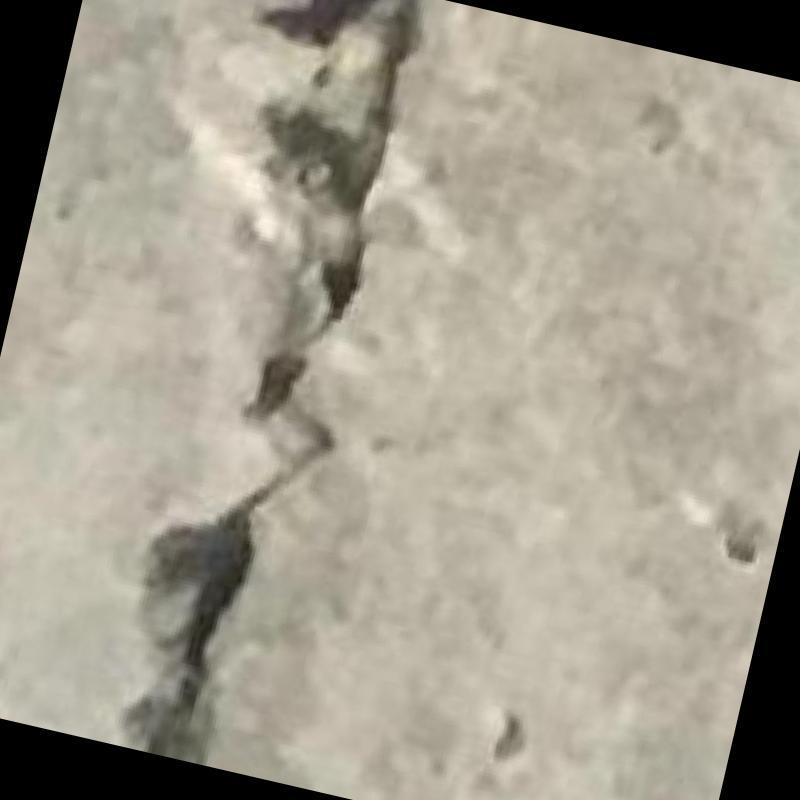pothole: (123, 0, 418, 764)
